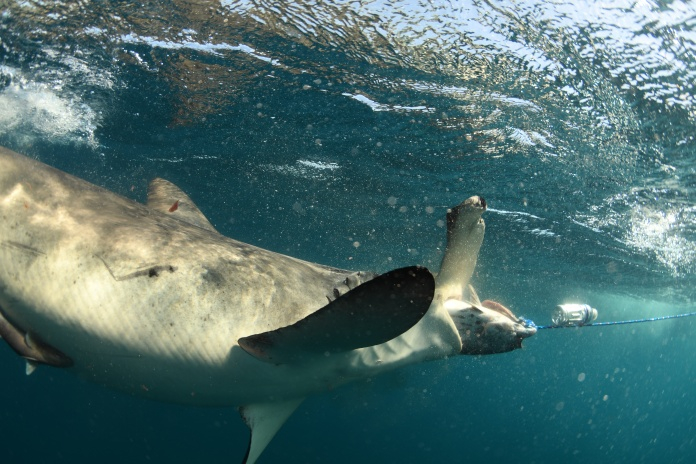Hammer: (1, 108, 544, 460)
